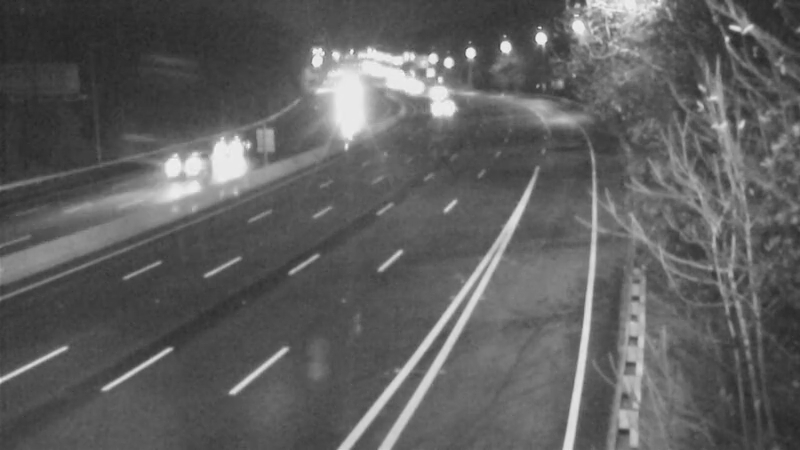vehicle: (138, 132, 218, 212), (414, 66, 464, 116), (420, 83, 470, 133), (198, 123, 248, 173)
